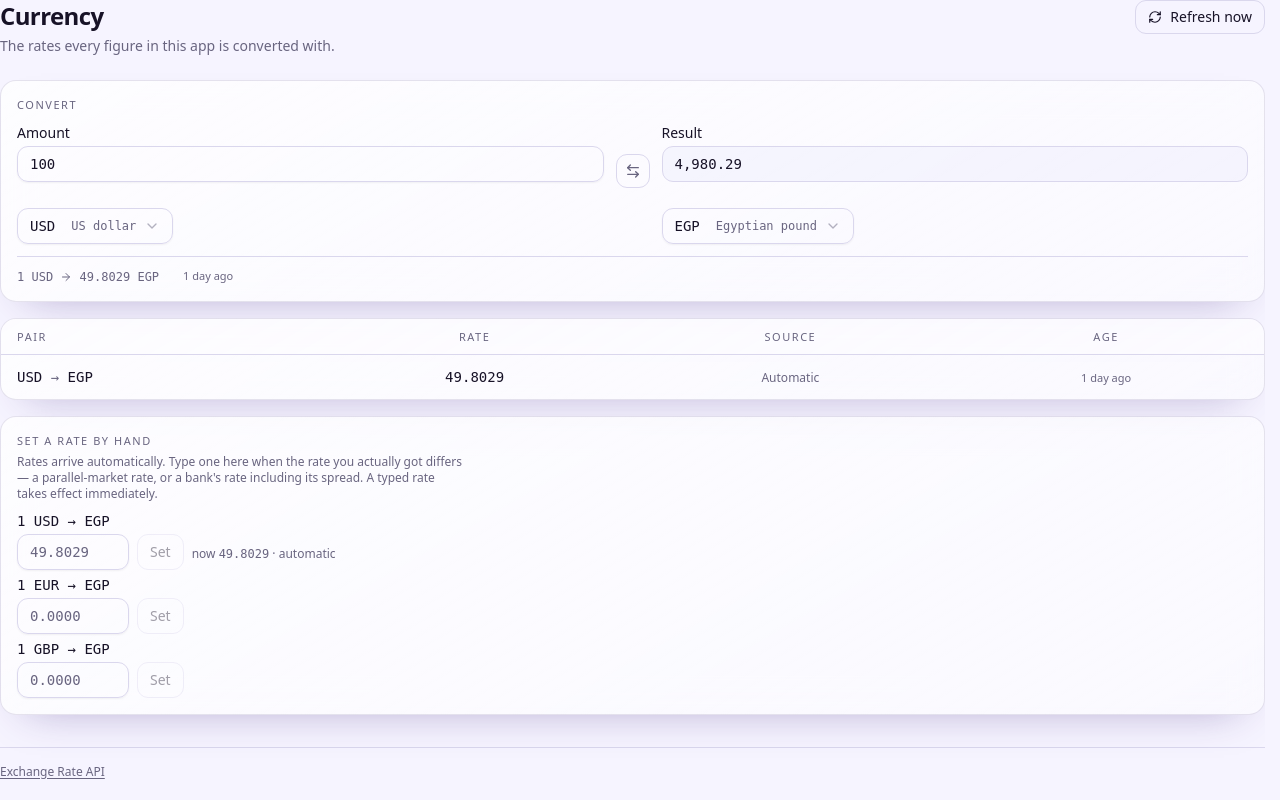
refreshing › marks a first-ever rate as such rather than inventing a change
Click the button "Refresh now".
click(1200, 17)  # box [1135,0,1265,34]
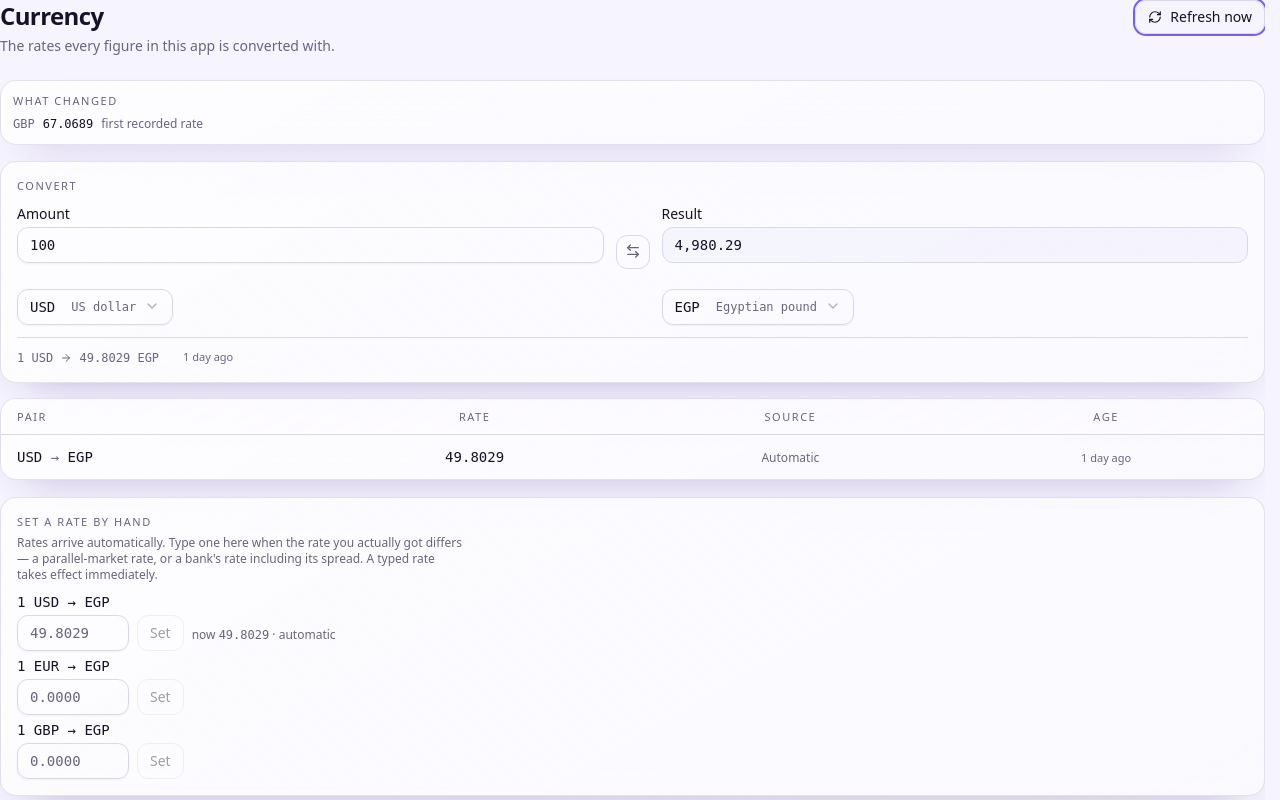
Now the text "first recorded rate" is shown, box [101,116,203,132]
